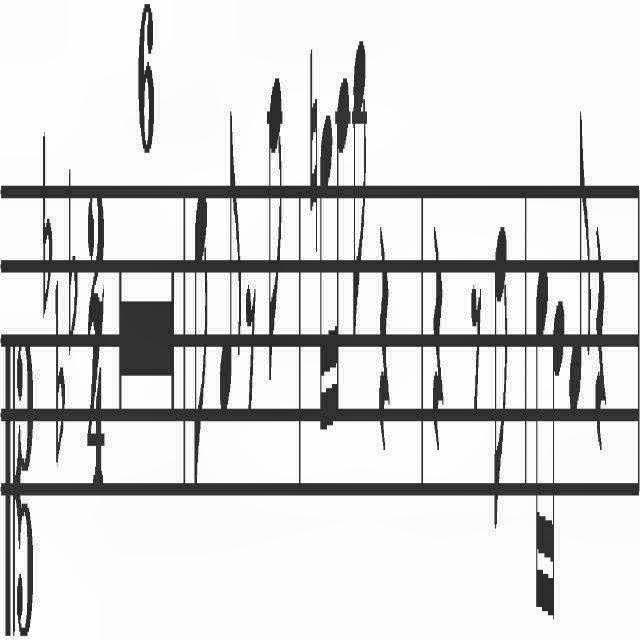Bemol: (41, 126, 53, 328), (54, 274, 66, 472), (68, 166, 80, 364)
Eighth-note: (567, 104, 591, 430), (218, 106, 242, 410), (192, 187, 210, 508), (492, 213, 508, 539), (352, 39, 368, 357), (267, 78, 283, 394)
Eighth-rest: (470, 277, 482, 423), (246, 276, 256, 420)
Quarter-rest: (378, 223, 390, 461), (432, 224, 444, 456), (594, 226, 606, 450)
Sixteenth-note: (334, 76, 350, 454), (318, 105, 334, 443), (549, 291, 565, 629), (535, 250, 549, 614)
